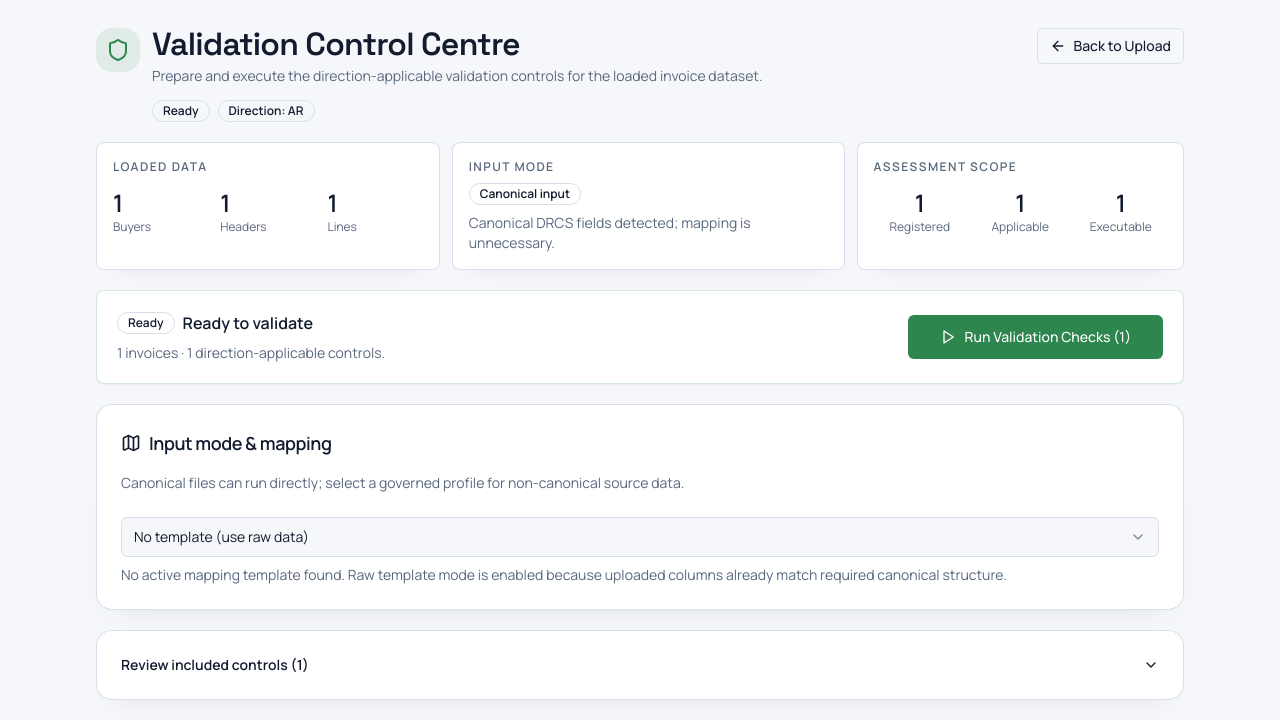
Test case: RunChecksPage local fallback fetch resilience › does not surface mapping template fetch failures when local fallback is enabled
This screenshot has width=1280, height=720.
Expected: the text "Invoice Number Present" is not shown
What coordinates should you click on to do the following:
click the button with aria-label "Expand included controls"
I would click on:
 (209, 664)
Its box is x1=97 y1=631 x2=1183 y2=699.
(page scrolled)
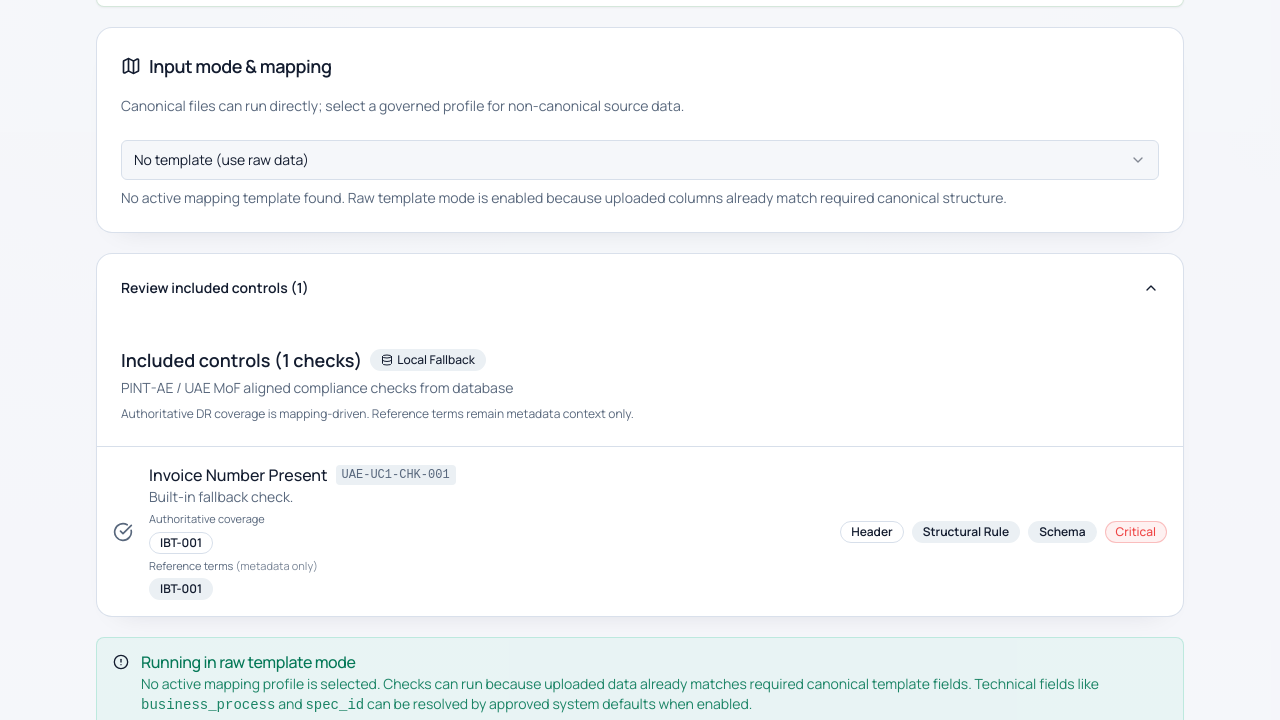
Expected: the text "No active mapping template found." is shown, x1=121 y1=188 x2=1007 y2=207
Result: the text "Invoice Number Present" is shown at x1=149 y1=463 x2=328 y2=487
Result: the text "Local Fallback" is shown at x1=370 y1=349 x2=486 y2=371
